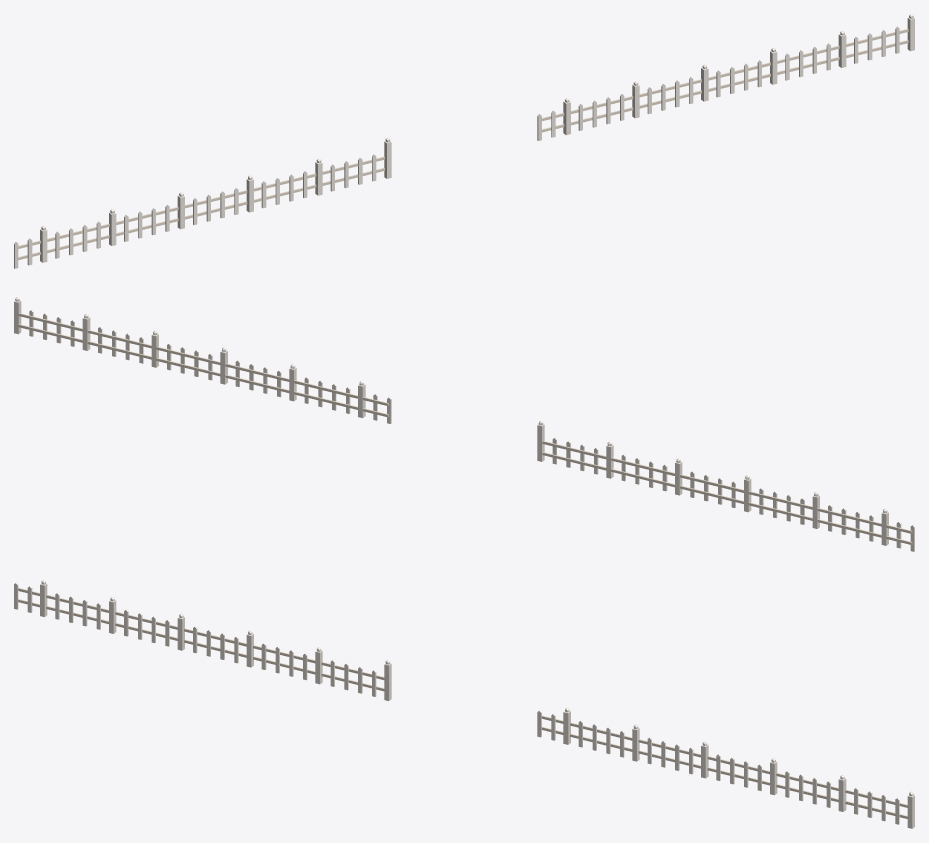
File: CatCafe_Lawn_Fence_WhitePicket.glb
The picture shows the model from 3 angles, top to bottom: view 1: azimuth 30°, elevation 25°; view 2: azimuth 150°, elevation 25°; view 3: azimuth 330°, elevation 25°; orthographic projection.
Parts seen in each view (by area): view 1: CatCafe_Lawn_Fence_WhitePicket; view 2: CatCafe_Lawn_Fence_WhitePicket; view 3: CatCafe_Lawn_Fence_WhitePicket.
Part boxes in pixels (x1,y1,x2,y2): CatCafe_Lawn_Fence_WhitePicket: [14, 14, 914, 268]; CatCafe_Lawn_Fence_WhitePicket: [14, 297, 914, 551]; CatCafe_Lawn_Fence_WhitePicket: [14, 580, 914, 828].
Bounding box in the file's own units: 46.21 × 1.95 × 0.24.
Materials: 1 (1 with a texture image).
